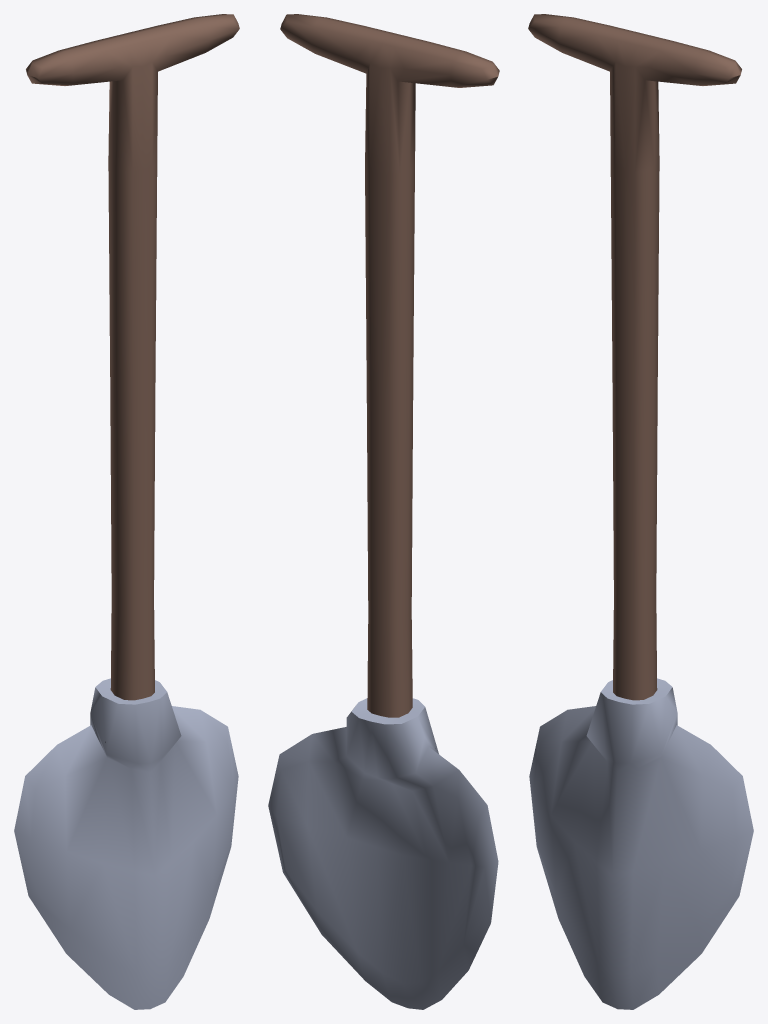
Rendered from shovel_0307.fbx.
3 views of the same model, side by side, from view 1: azimuth 30°, elevation 25°; view 2: azimuth 150°, elevation 25°; view 3: azimuth 330°, elevation 25° (orthographic). The views are drawn at different scales.
Parts seen in each view (by area): view 1: Shovel.001; view 2: Shovel.001; view 3: Shovel.001.
Part boxes in pixels (x1,y1,x2,y2): Shovel.001: (14,14,239,1009); Shovel.001: (268,14,499,1009); Shovel.001: (528,14,753,1009).
Size of the model in its own units: 0.0994 by 0.4069 by 0.0311.
